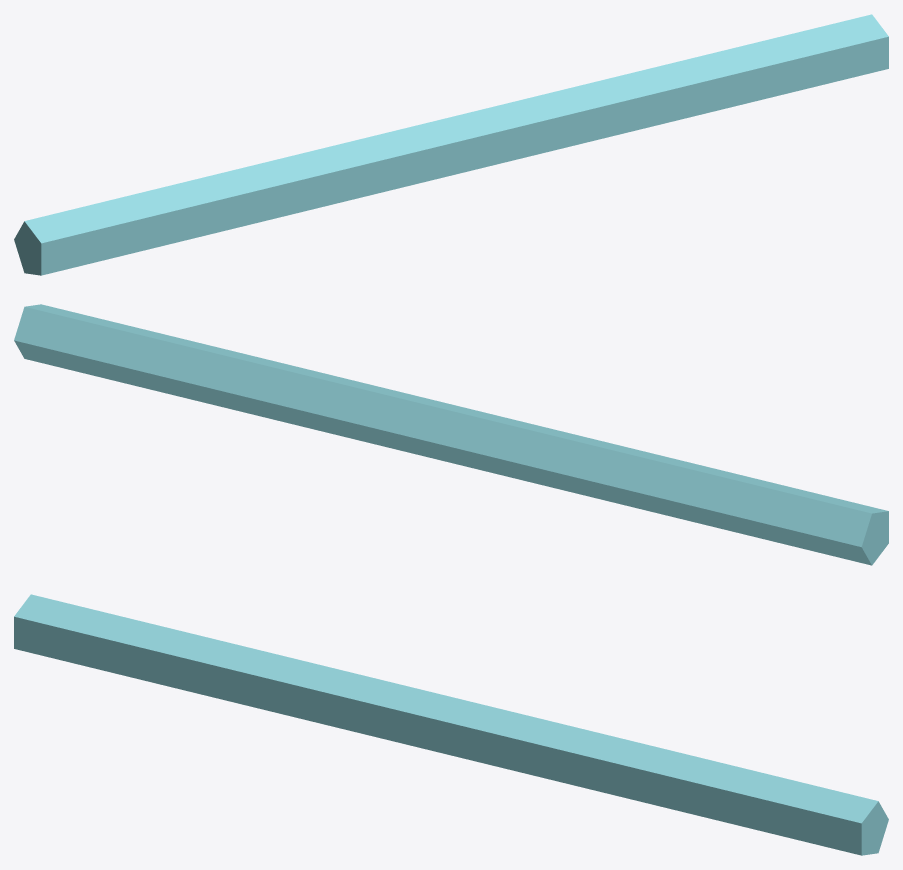
The picture shows the model from 3 angles, top to bottom: view 1: azimuth 30°, elevation 25°; view 2: azimuth 150°, elevation 25°; view 3: azimuth 330°, elevation 25°; orthographic projection.
Visible parts, largest first — view 1: Cylinder; view 2: Cylinder; view 3: Cylinder.
Part boxes in pixels (x1,y1,x2,y2): Cylinder: [14, 14, 888, 275]; Cylinder: [14, 304, 888, 565]; Cylinder: [14, 594, 888, 855].
Size of the model in its own units: 3239 by 190 by 181.
